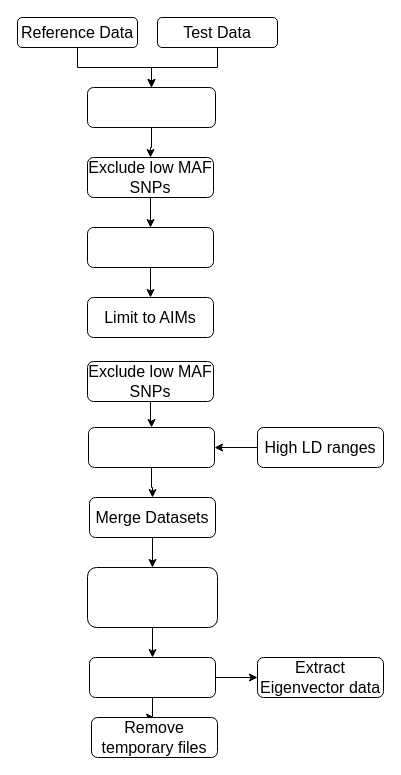
The diagram is 401 pixels wide and 775 high, and some of its shapes have lost their labels. Each missing label, with the centre of its shape:
Extract common SNPs: (x=151, y=107)
Flip unaligned SNP info and merge: (x=152, y=597)
Prune high LD regions: (x=151, y=447)
Remove ambiguous SNPs: (x=150, y=247)
Run PCA: (x=152, y=677)
